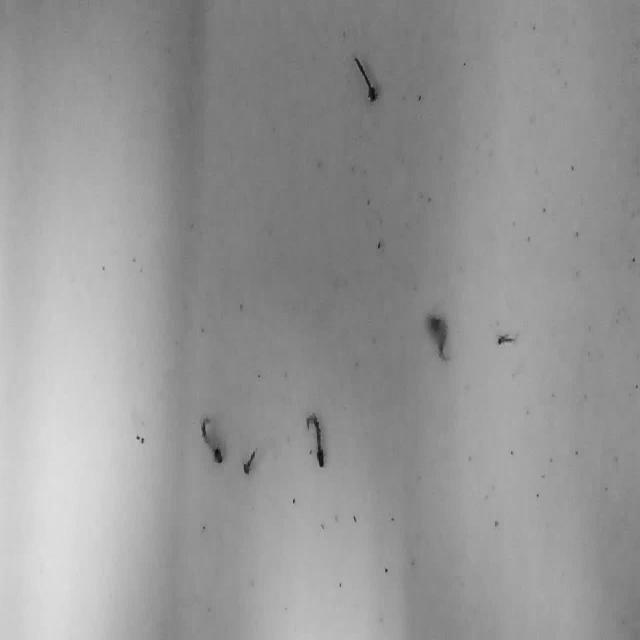larvas: (354, 57, 378, 101), (426, 316, 449, 360), (306, 412, 324, 466), (201, 418, 222, 461), (242, 450, 255, 476), (498, 336, 516, 346)
